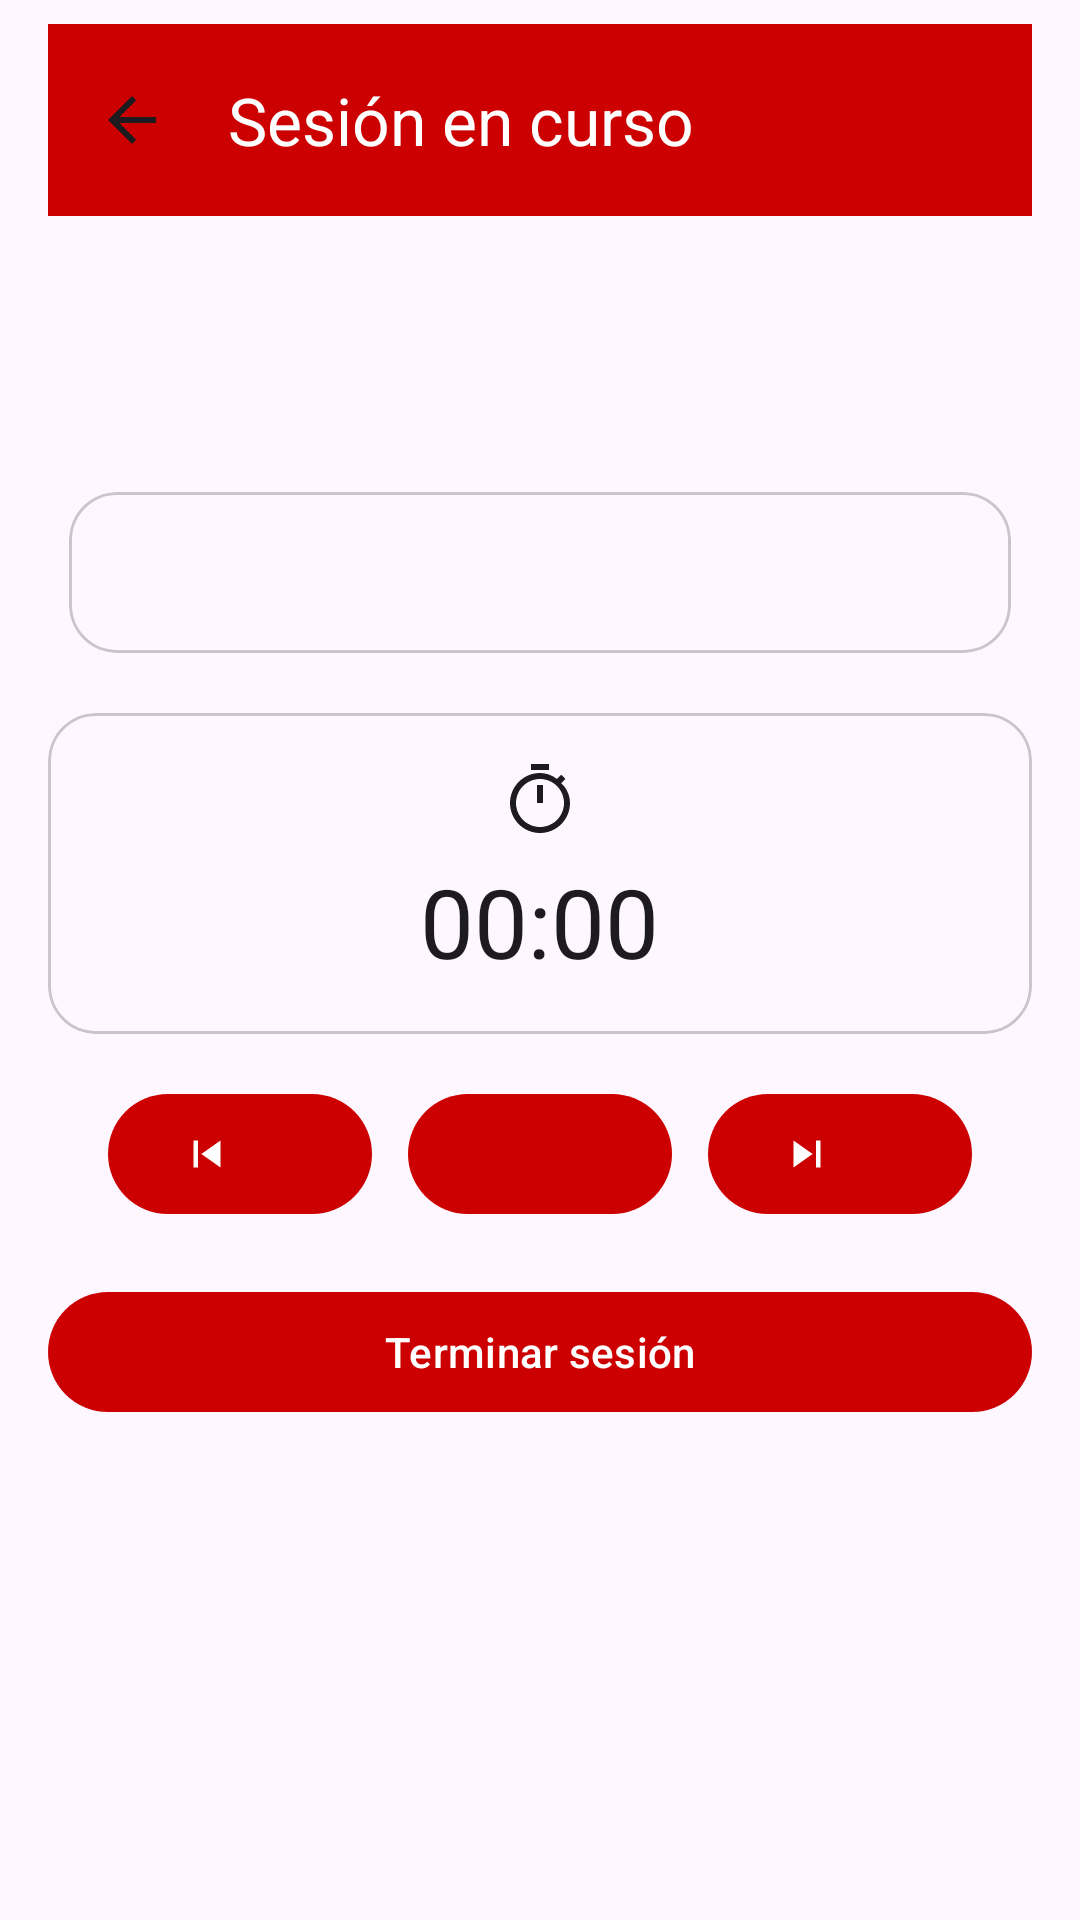

Icon bounding boxes for this 1080 × 1920 phone screenshot, format (x1, y1, x2, y2):
Anterior: (108, 1094, 372, 1214)
Siguiente: (708, 1094, 972, 1214)
Temporizador: (510, 764, 570, 833)
